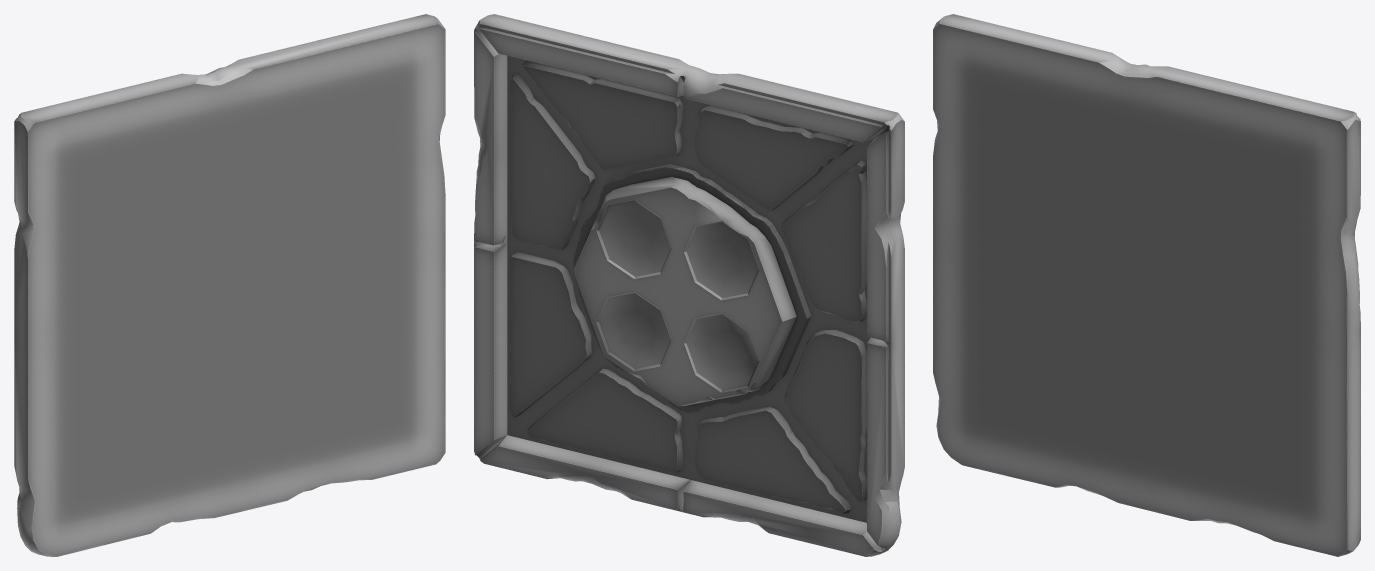
File: MESH_StoneOrnament.glb
The picture shows the model from 3 angles, left to right: view 1: azimuth 30°, elevation 25°; view 2: azimuth 150°, elevation 25°; view 3: azimuth 330°, elevation 25°; orthographic projection.
Parts seen in each view (by area): view 1: MESH_StoneOrnament; view 2: MESH_StoneOrnament; view 3: MESH_StoneOrnament.
Part boxes in pixels (box(x1,y1,x2,y2)): MESH_StoneOrnament: box(14, 14, 445, 556); MESH_StoneOrnament: box(474, 14, 904, 556); MESH_StoneOrnament: box(933, 14, 1360, 556).
Size of the model in its own units: 3.57 by 3.59 by 0.273.
1 material, 1 textured.
